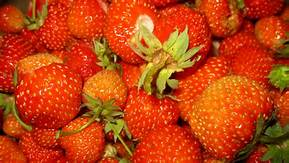Fresa: (183, 70, 280, 163), (10, 60, 86, 131), (118, 82, 180, 145), (79, 64, 130, 119), (55, 113, 108, 163)
